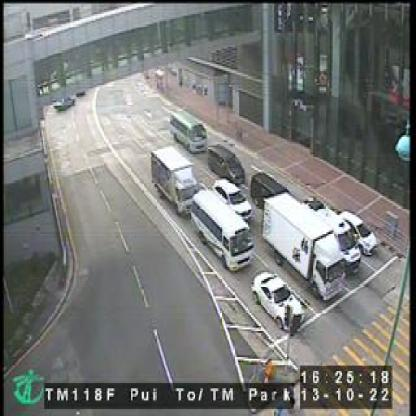Car: (251, 270, 306, 334), (316, 206, 363, 271), (333, 208, 377, 258), (211, 176, 254, 220), (170, 108, 208, 154), (250, 170, 293, 204), (209, 147, 246, 185)
Truck: (259, 192, 346, 298), (191, 187, 254, 274), (149, 145, 200, 217)
